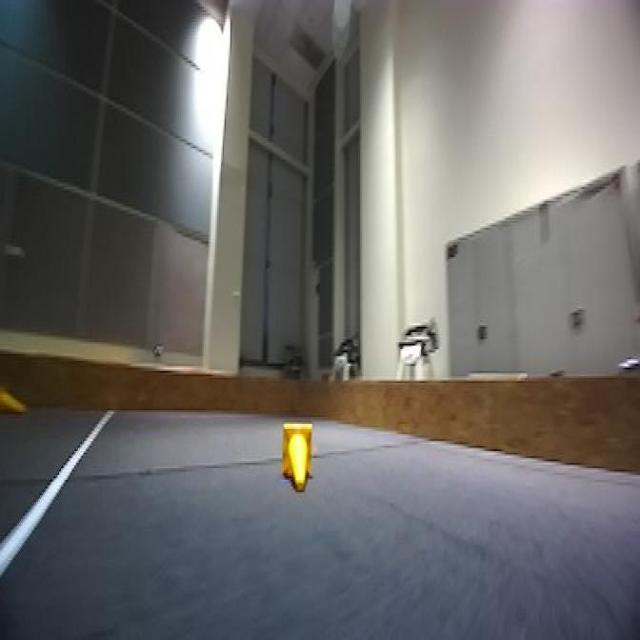frc_cone: (279, 422, 314, 492), (1, 381, 26, 417)
